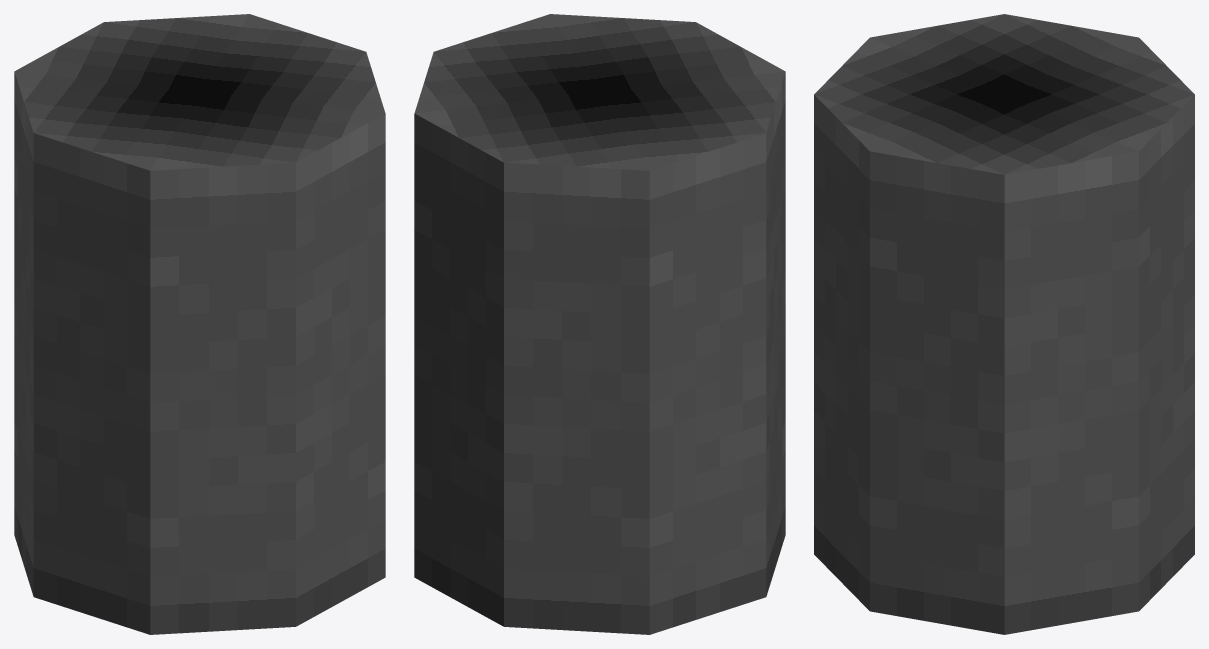
Rendered from pipe.obj.
The picture shows the model from 3 angles, left to right: view 1: azimuth 30°, elevation 25°; view 2: azimuth 150°, elevation 25°; view 3: azimuth 270°, elevation 25°; orthographic projection.
Visible parts, largest first — view 1: Side, Top; view 2: Side, Top; view 3: Side, Top.
Boxes of the visible parts, box(x1,y1,x2,y2) form: Side: box(14, 71, 385, 634); Top: box(14, 14, 385, 170); Side: box(414, 71, 785, 634); Top: box(414, 14, 785, 170); Side: box(814, 94, 1194, 634); Top: box(814, 14, 1194, 174).
Size of the model in its own units: 0.75 by 1 by 0.75.
